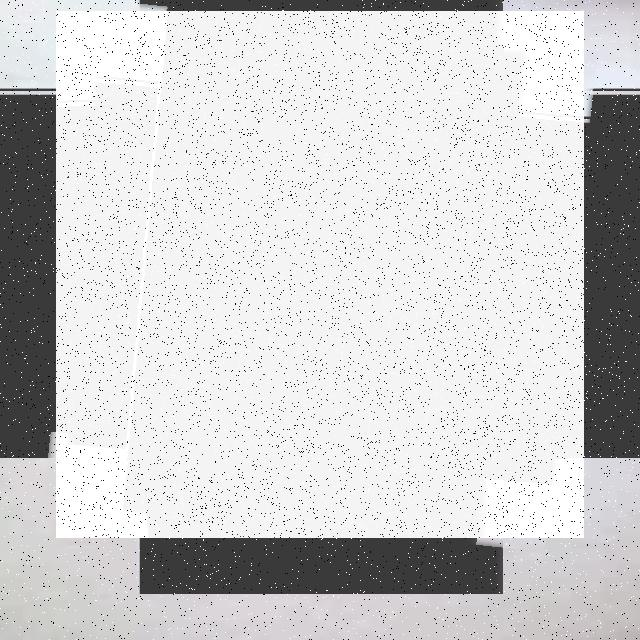lima puluh ribu rupiah: (56, 11, 584, 538)
